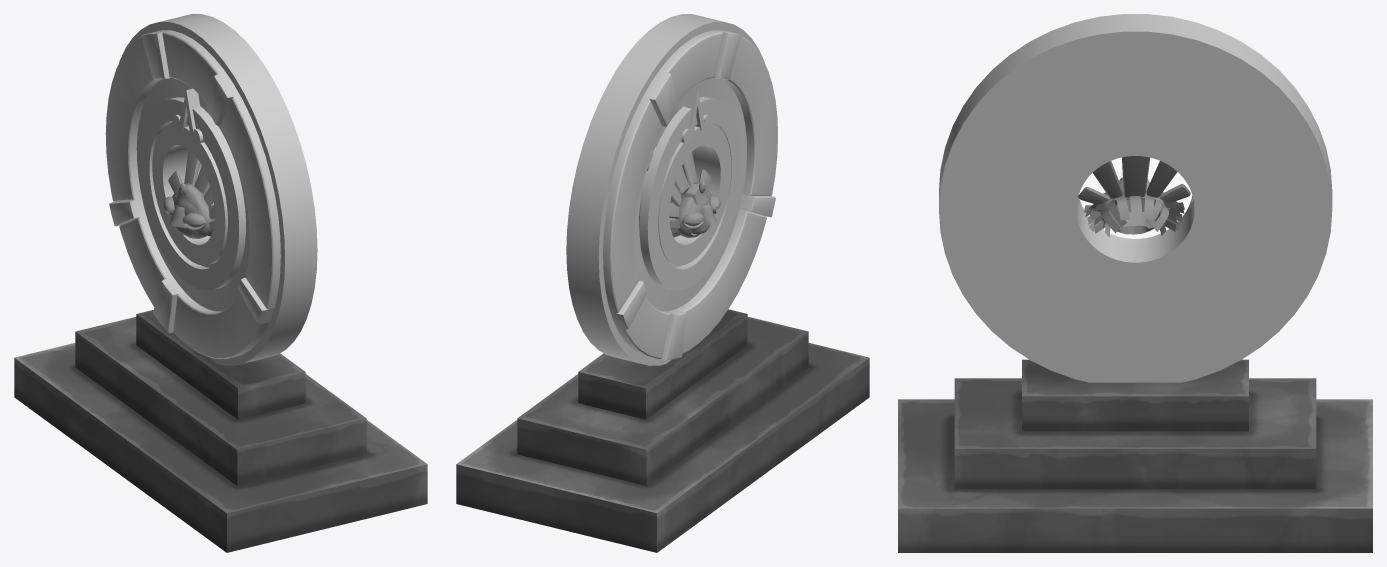
The model's file is SM_StartScreen.FBX.
3 views of the same model, side by side, from view 1: azimuth 30°, elevation 25°; view 2: azimuth 150°, elevation 25°; view 3: azimuth 270°, elevation 25° (orthographic). The views are drawn at different scales.
Visible parts, largest first — view 1: Box001, NO_ROTAT, ROTATPART1, TUTORIAL, SETTINGS, ROTATPART2, separations, CREDITS, Paresseux, PLAY, QUIT; view 2: Box001, NO_ROTAT, ROTATPART1, SETTINGS, TUTORIAL, CREDITS, separations, ROTATPART2, Paresseux, PLAY, QUIT; view 3: NO_ROTAT, Box001, Paresseux.
Boxes of the visible parts, x1=… form: Box001: x1=14, y1=310, x2=427, y2=552; NO_ROTAT: x1=119, y1=14, x2=317, y2=365; ROTATPART1: x1=138, y1=97, x2=245, y2=290; TUTORIAL: x1=221, y1=95, x2=280, y2=309; SETTINGS: x1=105, y1=37, x2=162, y2=201; ROTATPART2: x1=152, y1=124, x2=227, y2=265; separations: x1=109, y1=30, x2=274, y2=333; CREDITS: x1=173, y1=292, x2=269, y2=358; Paresseux: x1=163, y1=149, x2=214, y2=238; PLAY: x1=162, y1=30, x2=225, y2=103; QUIT: x1=119, y1=215, x2=173, y2=306; Box001: x1=456, y1=309, x2=869, y2=552; NO_ROTAT: x1=566, y1=14, x2=764, y2=365; ROTATPART1: x1=639, y1=97, x2=742, y2=290; SETTINGS: x1=603, y1=97, x2=662, y2=313; TUTORIAL: x1=721, y1=36, x2=777, y2=195; CREDITS: x1=675, y1=209, x2=766, y2=353; separations: x1=610, y1=30, x2=775, y2=359; ROTATPART2: x1=658, y1=124, x2=731, y2=265; Paresseux: x1=647, y1=134, x2=720, y2=237; PLAY: x1=659, y1=30, x2=722, y2=102; QUIT: x1=616, y1=297, x2=670, y2=358; NO_ROTAT: x1=939, y1=14, x2=1332, y2=382; Box001: x1=898, y1=359, x2=1372, y2=552; Paresseux: x1=1078, y1=156, x2=1190, y2=237.
Size of the model in its own units: 240 by 482 by 440.
